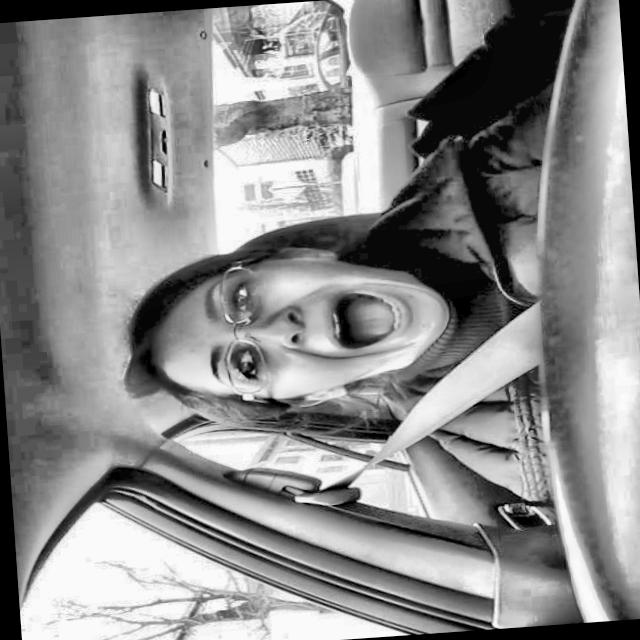open_eyes: (218, 273, 258, 323), (227, 345, 268, 392)
open_mouth: (312, 279, 420, 361)
